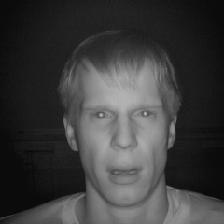normal: (58, 36, 186, 205)
